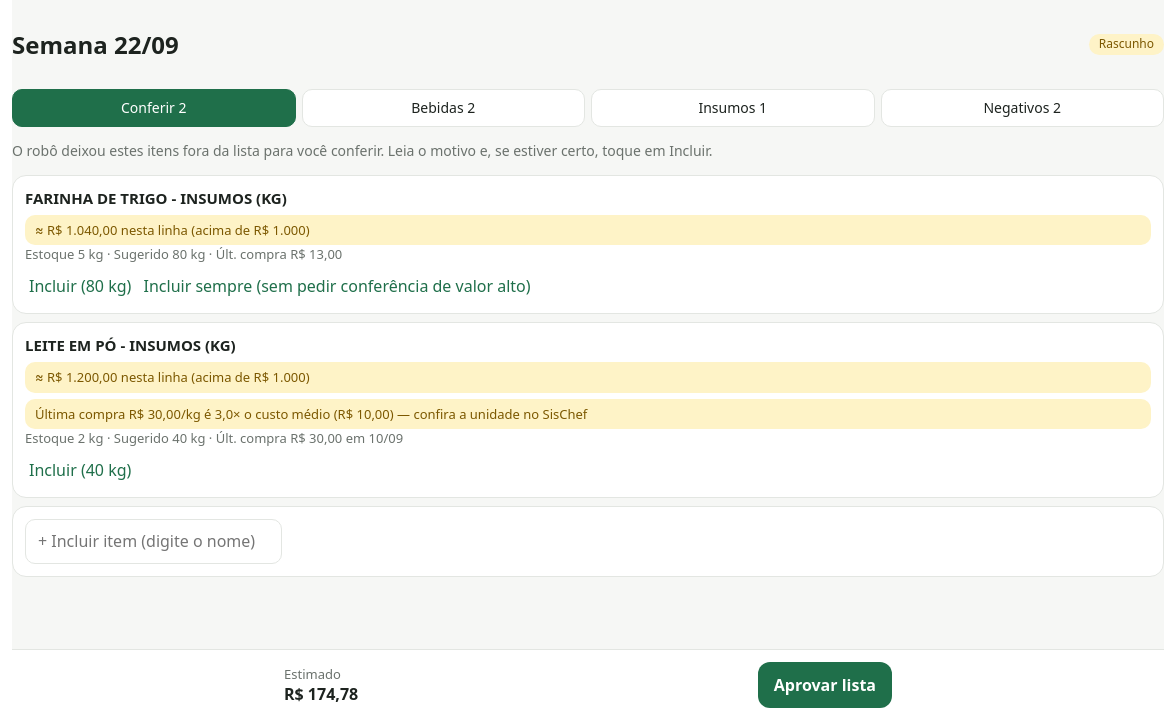
Scenario: Revisão — aba Conferir, negativos e semana anterior (Fase 1A) › Incluir na aba Conferir usa a quantidade sugerida; o item vai para a aba dele com os selos como etiquetas
Click the button "Incluir (40 kg)": (80, 470) x1=25 y1=455 x2=135 y2=485
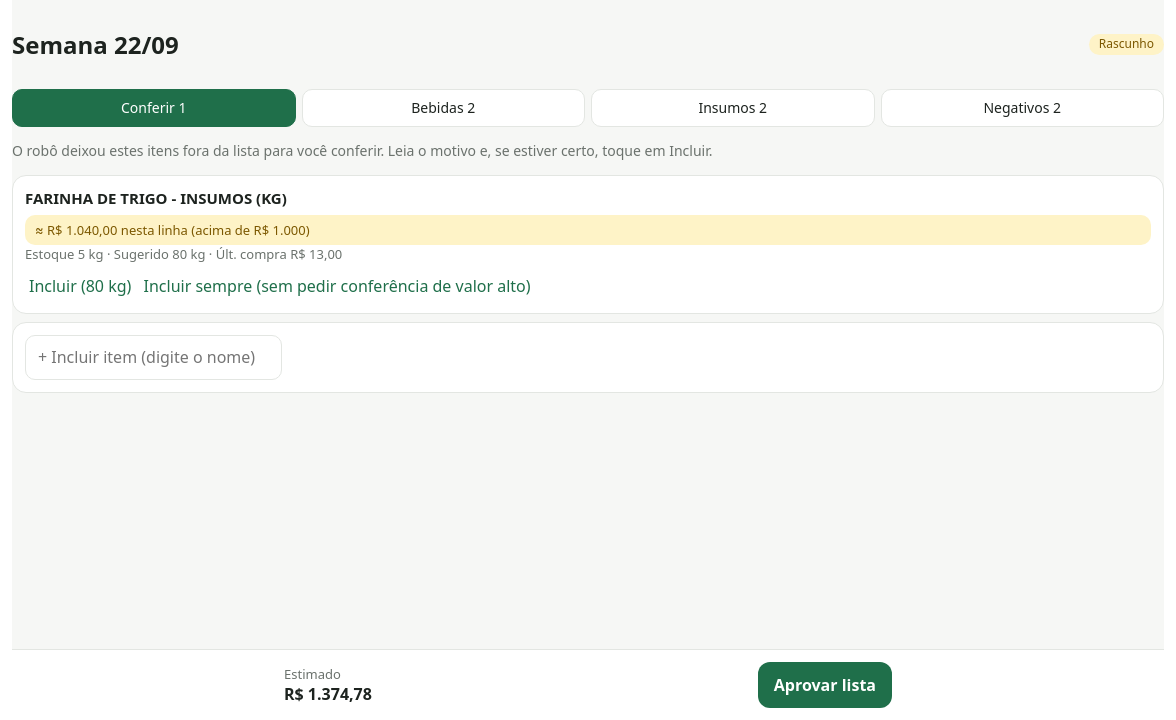
Check: the button "Conferir 1" is shown, box x1=12 y1=89 x2=296 y2=127
Check: the text "LEITE EM PÓ - INSUMOS (KG)" is gone
Click the button "Insumos 2": (733, 108) x1=591 y1=89 x2=874 y2=127
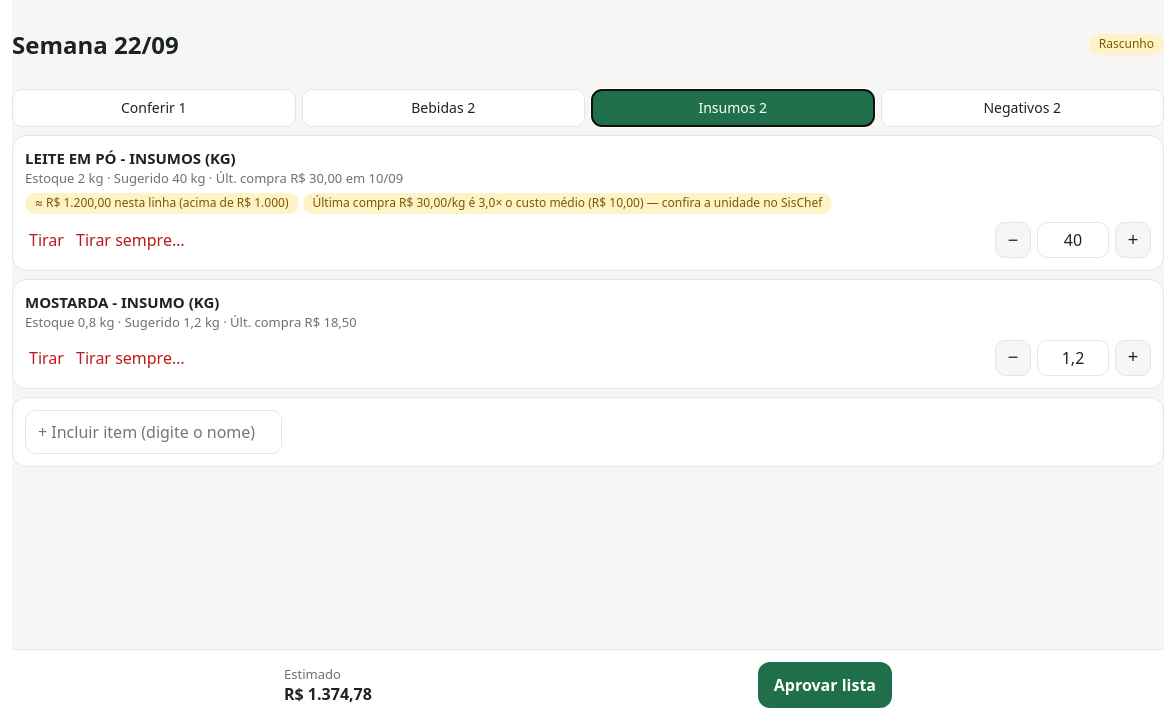
Check: the 1st field holds "40", box x1=1037 y1=222 x2=1109 y2=258
